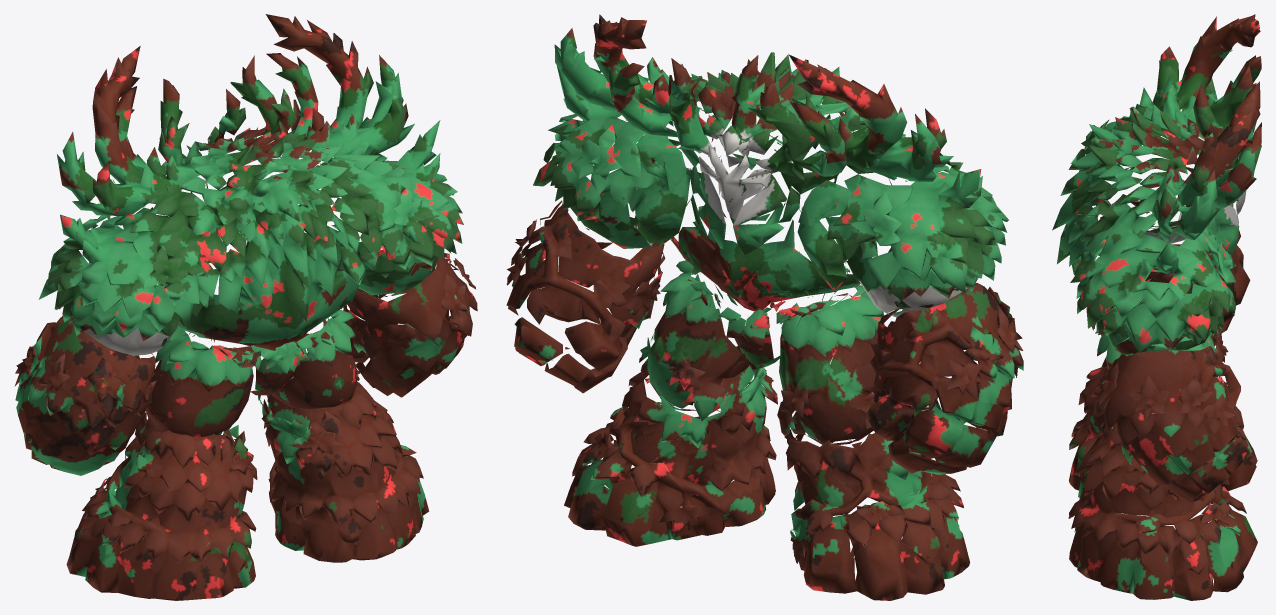
File: Thornix.glb
The picture shows the model from 3 angles, left to right: view 1: azimuth 30°, elevation 25°; view 2: azimuth 150°, elevation 25°; view 3: azimuth 270°, elevation 25°; orthographic projection. The views are drawn at different scales.
Visible parts, largest first — view 1: Body, LegL, LegR, ArmL, ArmR; view 2: Body, LegR, LegL, ArmL, ArmR; view 3: Body, LegR, ArmR, LegL, ArmL.
Part boxes in pixels (<box>): Body: <box>38,14,463,367</box>; LegL: <box>66,327,261,600</box>; LegR: <box>211,310,429,562</box>; ArmL: <box>14,316,156,475</box>; ArmR: <box>341,253,477,397</box>; Body: <box>533,14,1008,328</box>; LegR: <box>564,260,849,546</box>; LegL: <box>763,266,969,600</box>; ArmL: <box>865,283,1023,474</box>; ArmR: <box>506,200,665,393</box>; Body: <box>1052,14,1261,354</box>; LegR: <box>1068,322,1257,600</box>; ArmR: <box>1096,344,1249,502</box>; LegL: <box>1069,269,1257,509</box>; ArmL: <box>1100,183,1250,332</box>.
Bounding box in the file's own units: 2.42 × 2.52 × 1.02.
Materials: 1 (1 with a texture image).
